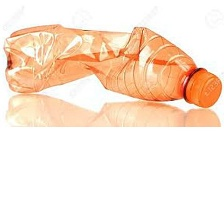bottle: (1, 11, 223, 109), (3, 92, 221, 128)
